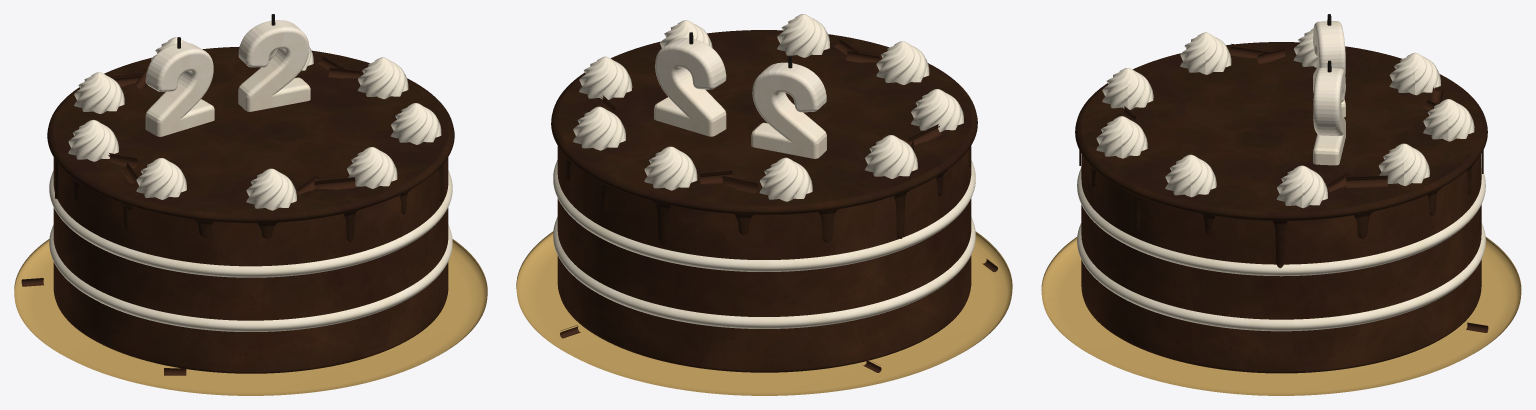
Rendered from birthday_cake_intact.glb.
3 views of the same model, side by side, from view 1: azimuth 30°, elevation 25°; view 2: azimuth 150°, elevation 25°; view 3: azimuth 270°, elevation 25° (orthographic). The views are drawn at different scales.
Visible parts, largest first — view 1: main_chocolate_sponge, main_chocolate_ganache, board_champagne_gold_plate, main_piped_cream, main_ivory_cream, candle_2b_body, candle_2a_body, main_chocolate_curl; view 2: main_chocolate_sponge, main_chocolate_ganache, board_champagne_gold_plate, main_piped_cream, main_ivory_cream, candle_2a_body, candle_2b_body, main_chocolate_curl; view 3: main_chocolate_sponge, main_chocolate_ganache, board_champagne_gold_plate, main_piped_cream, main_ivory_cream, candle_2b_body, main_chocolate_curl, candle_2a_body.
Part boxes in pixels (bbox=[...]): main_chocolate_sponge: bbox=[53, 157, 448, 373]; main_chocolate_ganache: bbox=[47, 46, 454, 241]; board_champagne_gold_plate: bbox=[14, 239, 487, 395]; main_piped_cream: bbox=[68, 37, 441, 210]; main_ivory_cream: bbox=[49, 170, 452, 331]; candle_2b_body: bbox=[238, 20, 310, 111]; candle_2a_body: bbox=[145, 42, 214, 136]; main_chocolate_curl: bbox=[108, 53, 360, 194]; main_chocolate_sponge: bbox=[557, 146, 971, 372]; main_chocolate_ganache: bbox=[551, 30, 977, 243]; board_champagne_gold_plate: bbox=[516, 231, 1012, 395]; main_piped_cream: bbox=[573, 14, 963, 201]; main_ivory_cream: bbox=[553, 160, 975, 328]; candle_2a_body: bbox=[751, 62, 826, 158]; candle_2b_body: bbox=[654, 38, 726, 136]; main_chocolate_curl: bbox=[583, 38, 942, 193]; main_chocolate_sponge: bbox=[1081, 154, 1481, 373]; main_chocolate_ganache: bbox=[1075, 42, 1487, 268]; board_champagne_gold_plate: bbox=[1041, 237, 1521, 395]; main_piped_cream: bbox=[1096, 28, 1474, 208]; main_ivory_cream: bbox=[1077, 168, 1485, 331]; candle_2b_body: bbox=[1313, 67, 1345, 165]; main_chocolate_curl: bbox=[1103, 43, 1443, 191]; candle_2a_body: bbox=[1313, 21, 1345, 117].
Bounding box in the file's own units: 0.3 × 0.1795 × 0.3.
Materials: 8 (4 with a texture image).
